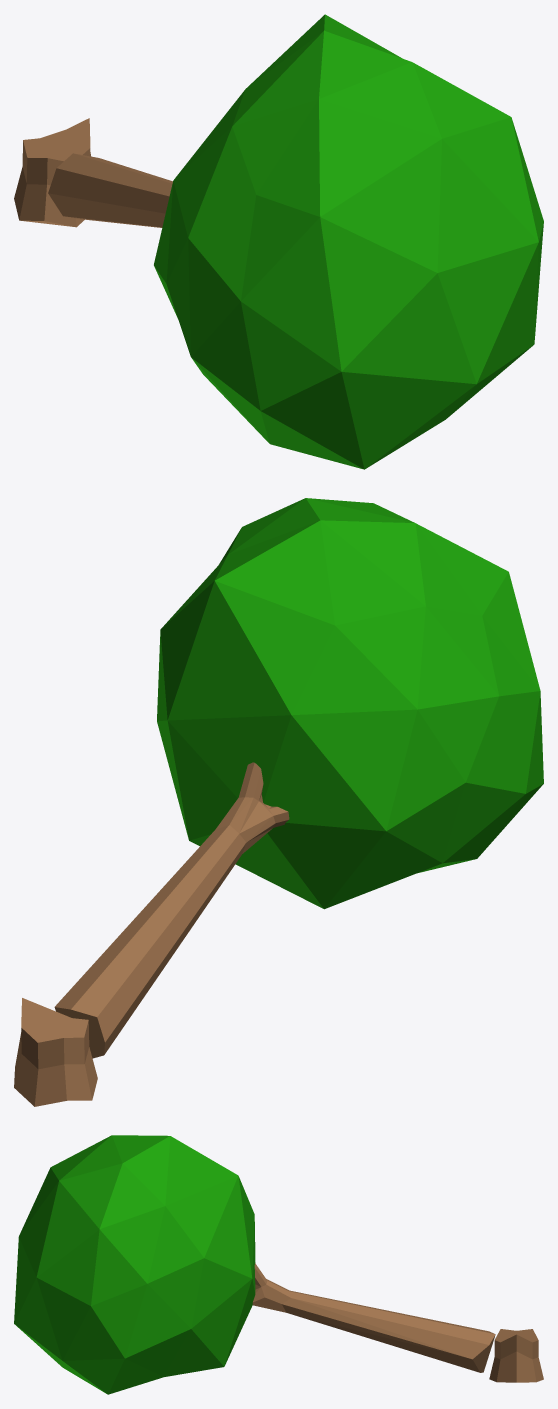
Rendered from Tree_1 Broken.fbx.
3 renders of one model, top to bottom at view 1: azimuth 30°, elevation 25°; view 2: azimuth 150°, elevation 25°; view 3: azimuth 270°, elevation 25°, orthographic. The views are drawn at different scales.
Visible parts, largest first — view 1: TreeBroken_mesh; view 2: TreeBroken_mesh; view 3: TreeBroken_mesh.
Boxes of the visible parts, <box> form: TreeBroken_mesh: <box>14,14,543,469</box>; TreeBroken_mesh: <box>14,498,543,1106</box>; TreeBroken_mesh: <box>14,1135,543,1394</box>.
Bounding box in the file's own units: 315 × 336 × 661.
